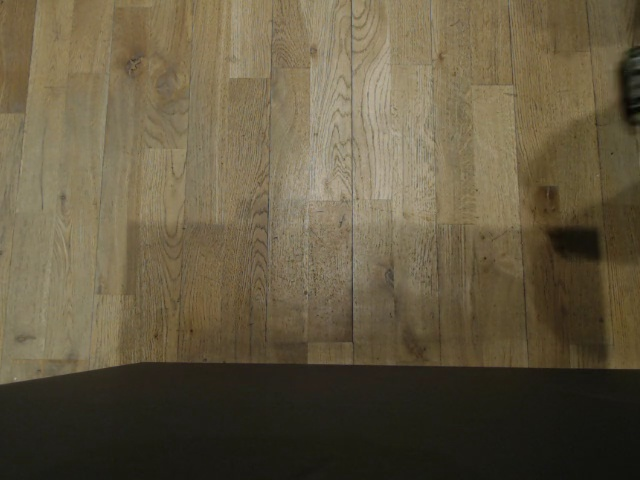beer: (613, 39, 640, 131)
